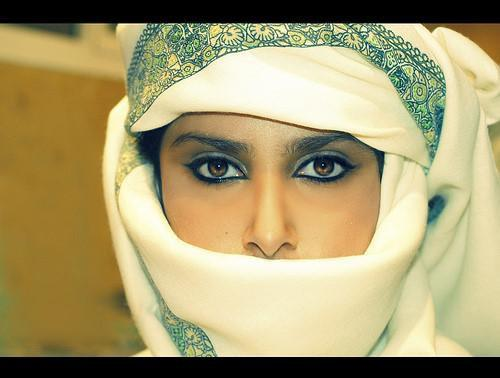WRONG: (152, 81, 398, 327)
